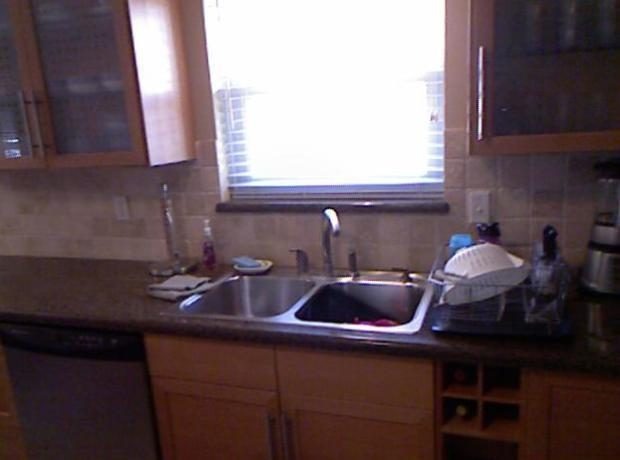Lavaplatos: (175, 197, 433, 346)
